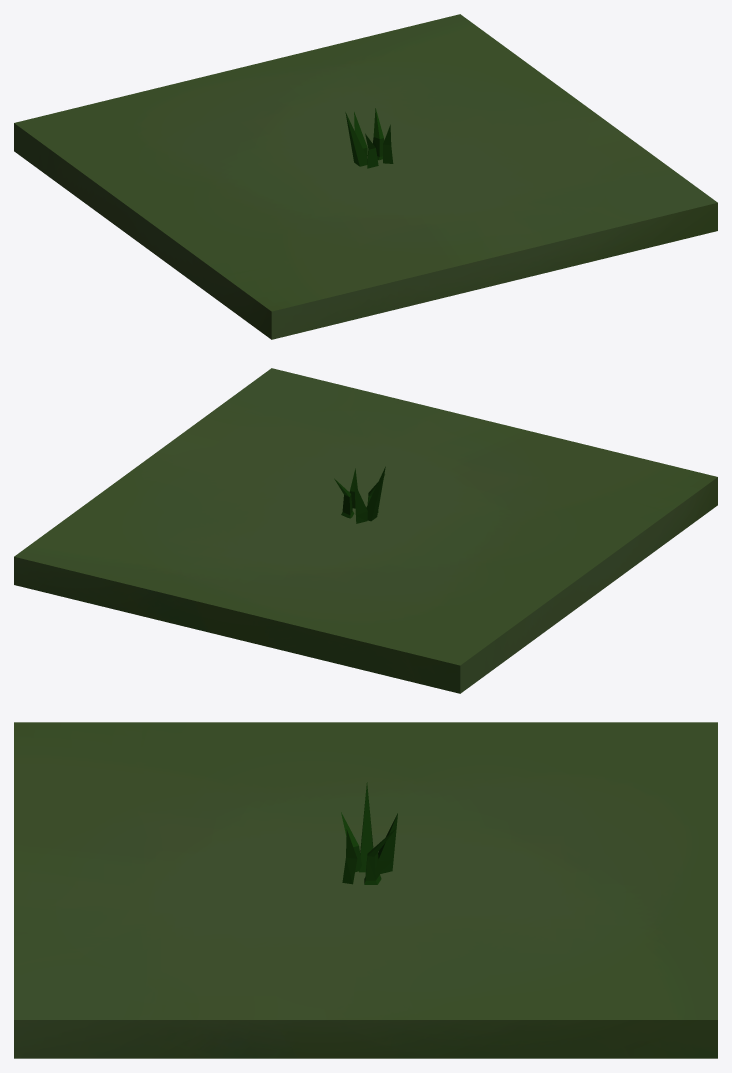
Rendered from CaseGraphHerbe2.dae.
The picture shows the model from 3 angles, top to bottom: view 1: azimuth 30°, elevation 25°; view 2: azimuth 150°, elevation 25°; view 3: azimuth 270°, elevation 25°; orthographic projection. The views are drawn at different scales.
Parts seen in each view (by area): view 1: Cube; view 2: Cube; view 3: Cube, Cube.002, Cylinder, Cube.001.
Boxes of the visible parts, box(x1,y1,x2,y2) form: Cube: box(14, 14, 717, 339); Cube: box(14, 368, 717, 693); Cube: box(14, 722, 717, 1058); Cube.002: box(359, 782, 373, 872); Cylinder: box(378, 813, 397, 873); Cube.001: box(364, 828, 396, 884).
Bounding box in the file's own units: 5.92 × 5.92 × 1.07.
Materials: 2 (1 with a texture image).
